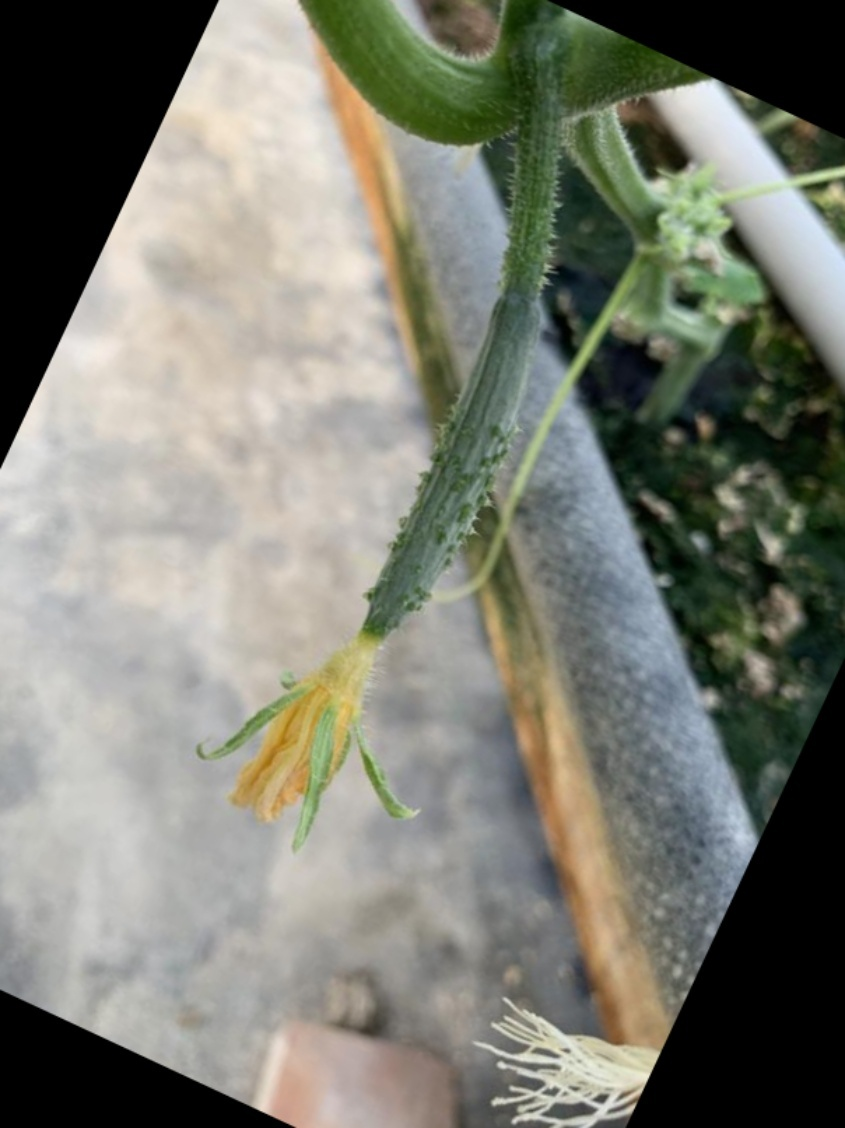bear: (189, 245, 564, 880)
